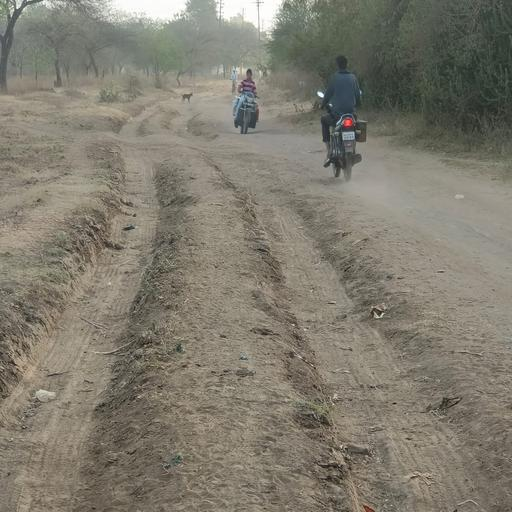vehicle_track: (215, 159, 500, 512), (0, 155, 159, 512)
